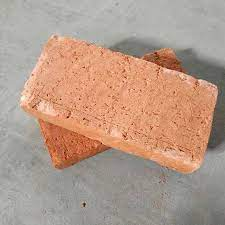brick: (18, 30, 220, 178)
